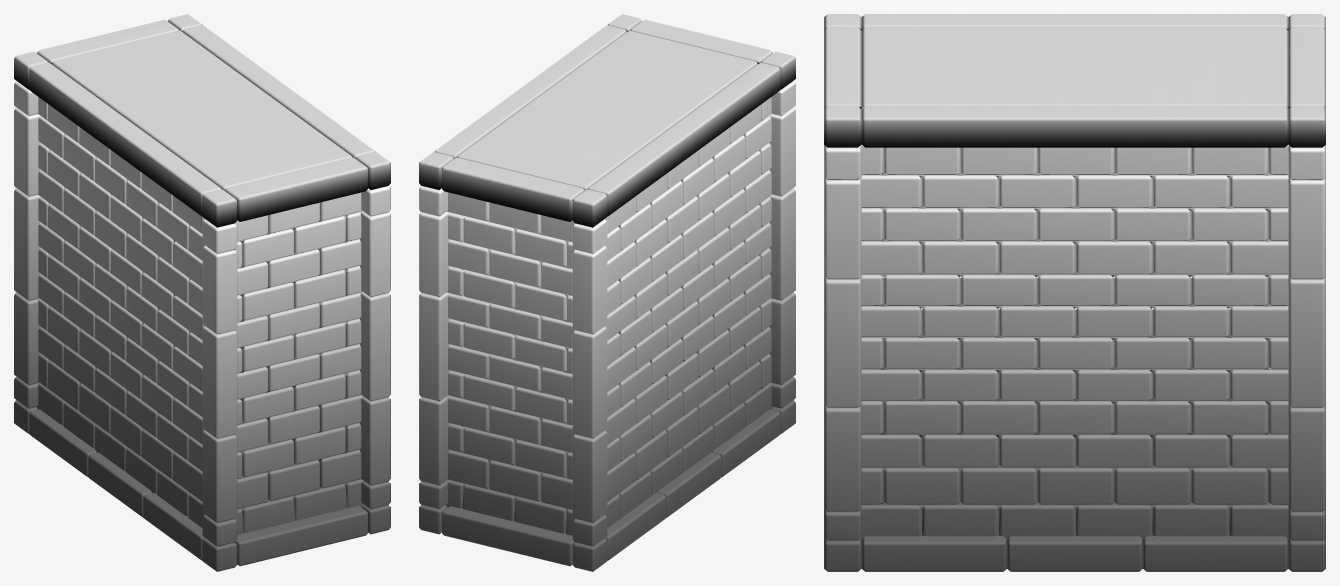
File: SM_Stone_Body_03.fbx
The picture shows the model from 3 angles, left to right: view 1: azimuth 30°, elevation 25°; view 2: azimuth 150°, elevation 25°; view 3: azimuth 270°, elevation 25°; orthographic projection. The views are drawn at different scales.
Visible parts, largest first — view 1: SM_Stone_Body_03; view 2: SM_Stone_Body_03; view 3: SM_Stone_Body_03.
Boxes of the visible parts, bbox=[...] form: SM_Stone_Body_03: bbox=[14, 14, 390, 571]; SM_Stone_Body_03: bbox=[419, 14, 795, 571]; SM_Stone_Body_03: bbox=[824, 14, 1325, 571].
Size of the model in its own units: 0.9996 by 2 by 2.
